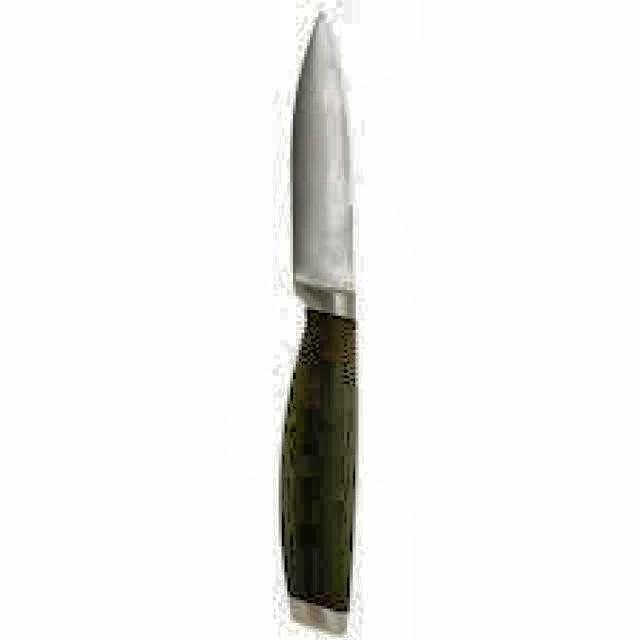knife: (270, 10, 360, 640)
